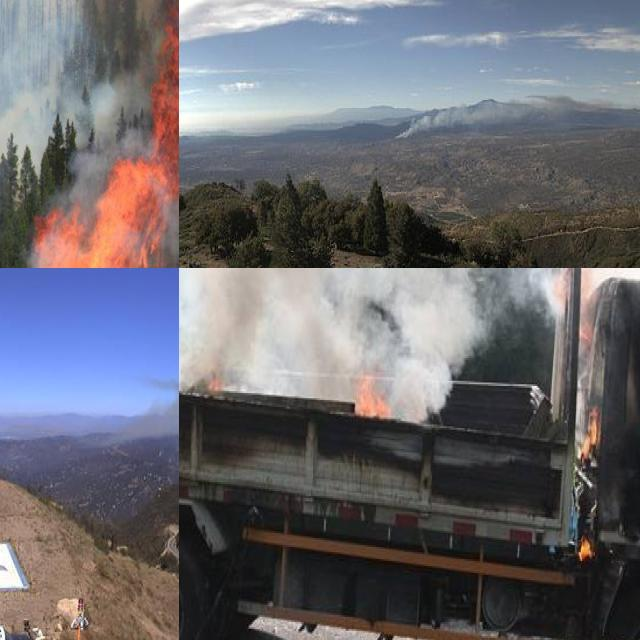fire: (4, 0, 179, 268), (351, 358, 397, 426), (562, 268, 598, 338), (577, 405, 603, 463), (577, 519, 602, 566), (204, 363, 228, 398)
smoke: (179, 268, 640, 396), (0, 0, 148, 268), (390, 82, 556, 142), (119, 370, 179, 472)
